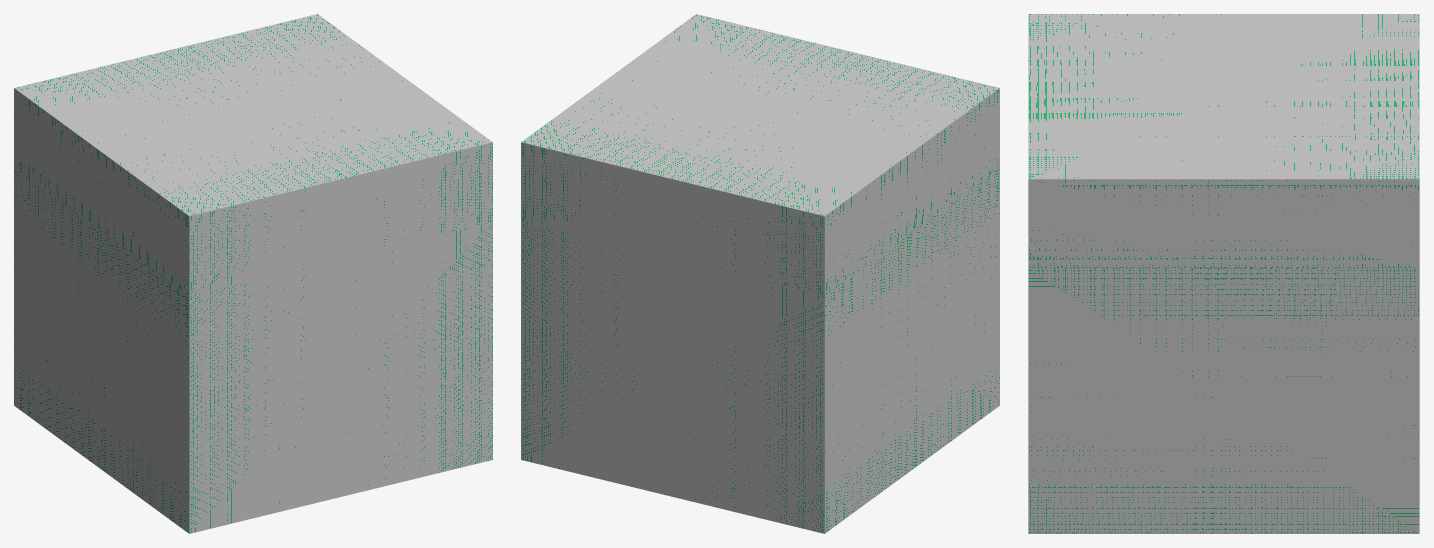
File: dirt-block-with-grass.fbx
3 views of the same model, side by side, from view 1: azimuth 30°, elevation 25°; view 2: azimuth 150°, elevation 25°; view 3: azimuth 270°, elevation 25° (orthographic). The views are drawn at different scales.
Parts seen in each view (by area): view 1: generated; view 2: generated; view 3: generated.
Boxes of the visible parts, box(x1,y1,x2,y2) form: generated: box(14, 14, 492, 533); generated: box(521, 14, 999, 533); generated: box(1028, 14, 1419, 533).
Bounding box in the file's own units: 80 × 80 × 80.
Materials: 1 (1 with a texture image).
